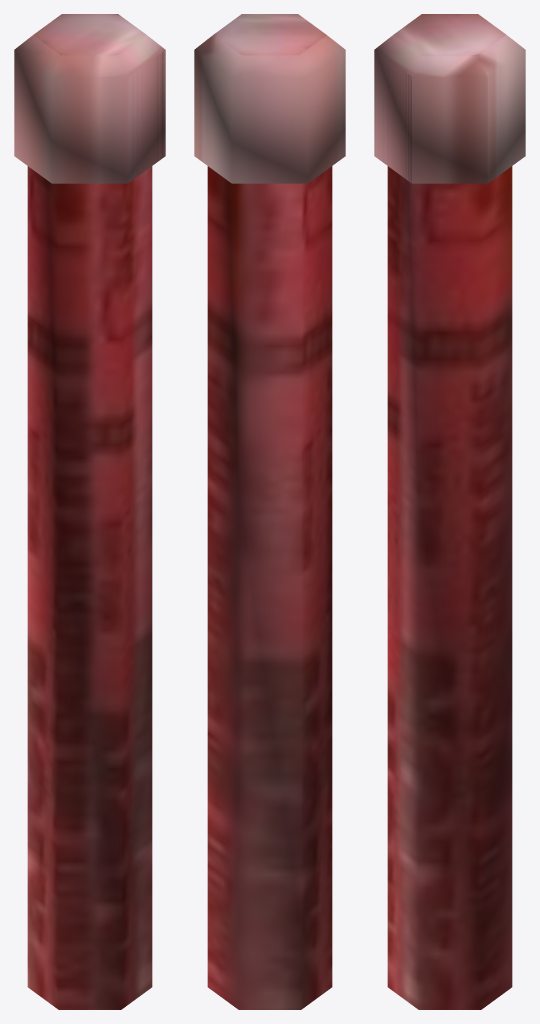
Rendered from flare_unlit.glb.
3 views of the same model, side by side, from view 1: azimuth 30°, elevation 25°; view 2: azimuth 150°, elevation 25°; view 3: azimuth 270°, elevation 25° (orthographic).
Visible parts, largest first — view 1: bengal_bengal_0; view 2: bengal_bengal_0; view 3: bengal_bengal_0.
Boxes of the visible parts, bbox=[...] form: bengal_bengal_0: bbox=[14, 14, 165, 1009]; bengal_bengal_0: bbox=[194, 14, 345, 1009]; bengal_bengal_0: bbox=[374, 14, 525, 1009].
Size of the model in its own units: 0.0508 by 0.4069 by 0.0587.
Materials: 1 (1 with a texture image).
